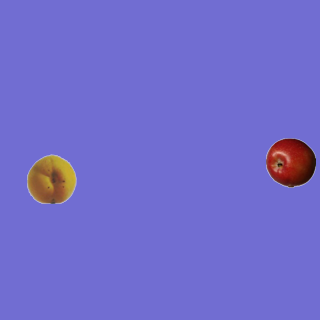Apple Braeburn: (265, 137, 315, 187)
Peach 2: (26, 153, 76, 203)
